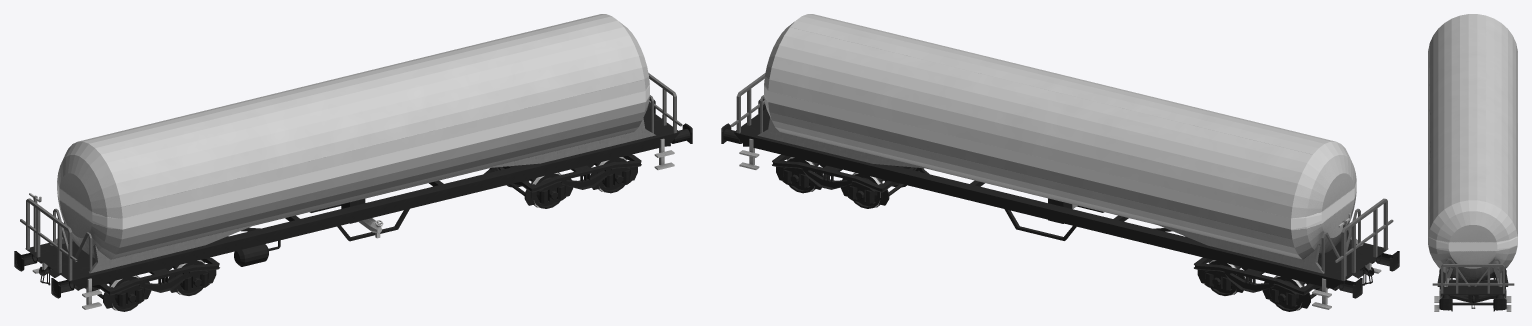
The model's file is zags114.obj.
3 views of the same model, side by side, from view 1: azimuth 30°, elevation 25°; view 2: azimuth 150°, elevation 25°; view 3: azimuth 270°, elevation 25° (orthographic). The views are drawn at different scales.
Parts seen in each view (by area): view 1: FRAME.001_Cylinder.000, FRAME_Cylinder.002, BOGEY_REAR_Cube.004, BOGEY_FRONT_Cube.001; view 2: FRAME.001_Cylinder.000, FRAME_Cylinder.002, BOGEY_REAR_Cube.004, BOGEY_FRONT_Cube.001; view 3: FRAME.001_Cylinder.000, FRAME_Cylinder.002, BOGEY_REAR_Cube.004.
Part boxes in pixels (left/top/right/bottom): FRAME.001_Cylinder.000: left=29, top=14, right=674, bottom=309; FRAME_Cylinder.002: left=14, top=73, right=692, bottom=298; BOGEY_REAR_Cube.004: left=493, top=154, right=641, bottom=205; BOGEY_FRONT_Cube.001: left=92, top=257, right=219, bottom=308; FRAME.001_Cylinder.000: left=739, top=14, right=1381, bottom=309; FRAME_Cylinder.002: left=721, top=73, right=1399, bottom=298; BOGEY_REAR_Cube.004: left=772, top=154, right=919, bottom=205; BOGEY_FRONT_Cube.001: left=1194, top=257, right=1321, bottom=308; FRAME.001_Cylinder.000: left=1428, top=14, right=1517, bottom=311; FRAME_Cylinder.002: left=1432, top=258, right=1514, bottom=310; BOGEY_REAR_Cube.004: left=1437, top=268, right=1508, bottom=310.
Bounding box in the file's own units: 17.7 × 4.23 × 2.96.
